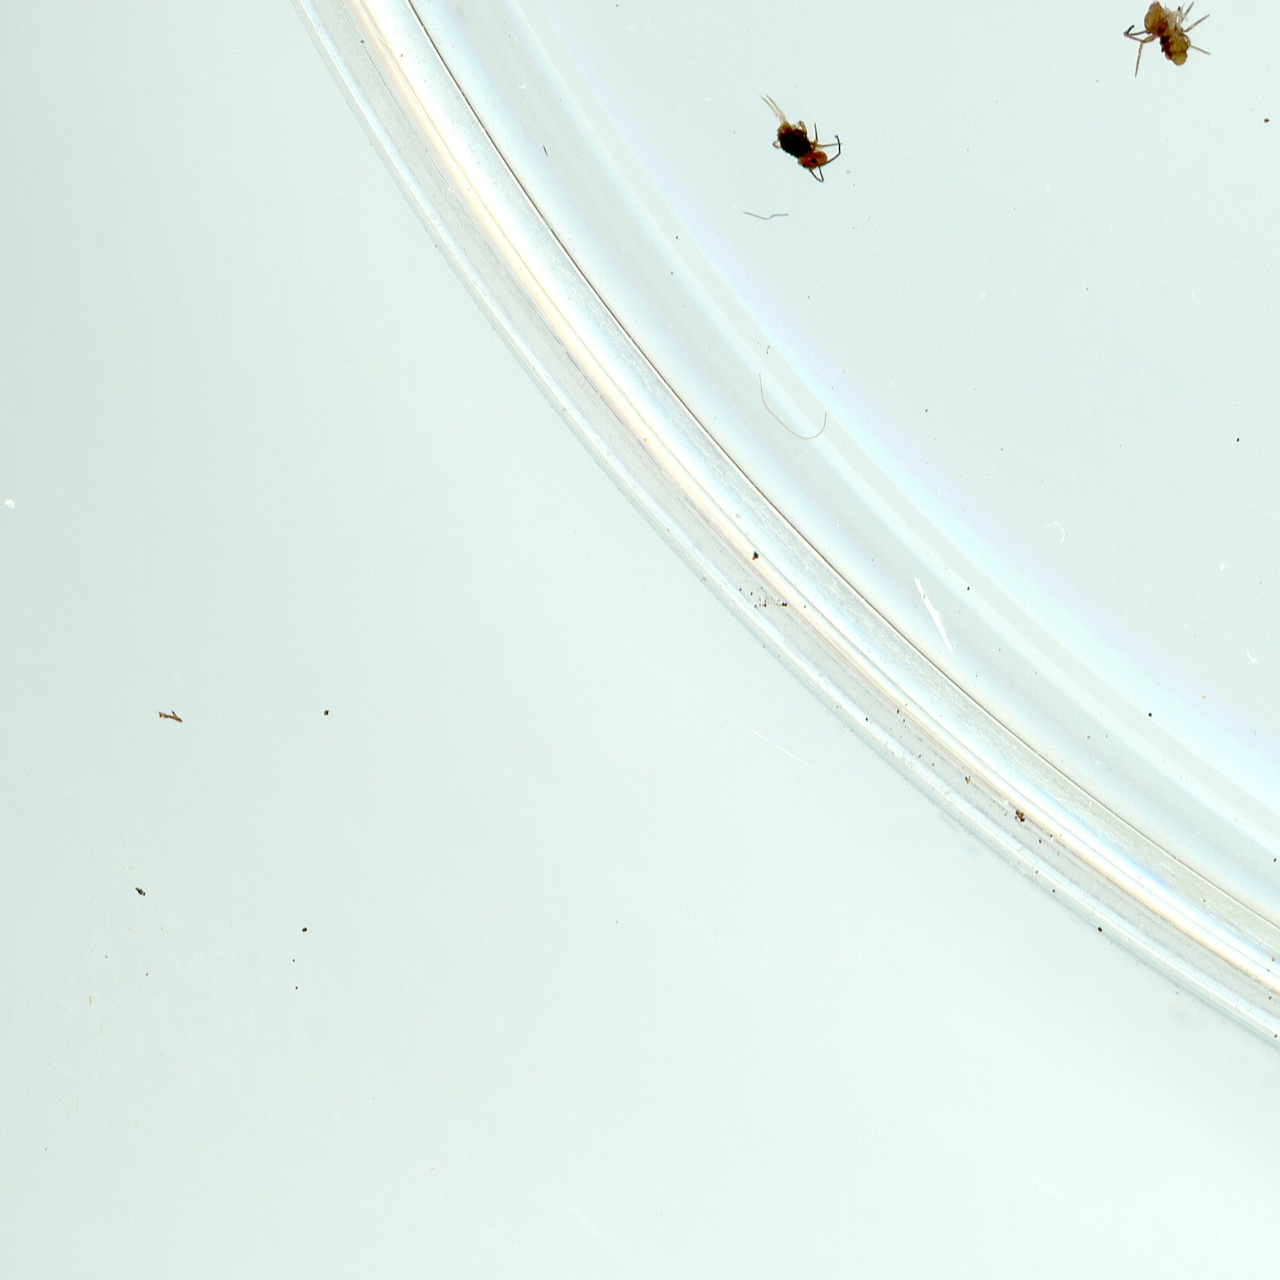arthropod: (742, 87, 856, 197), (1116, 0, 1221, 87)
